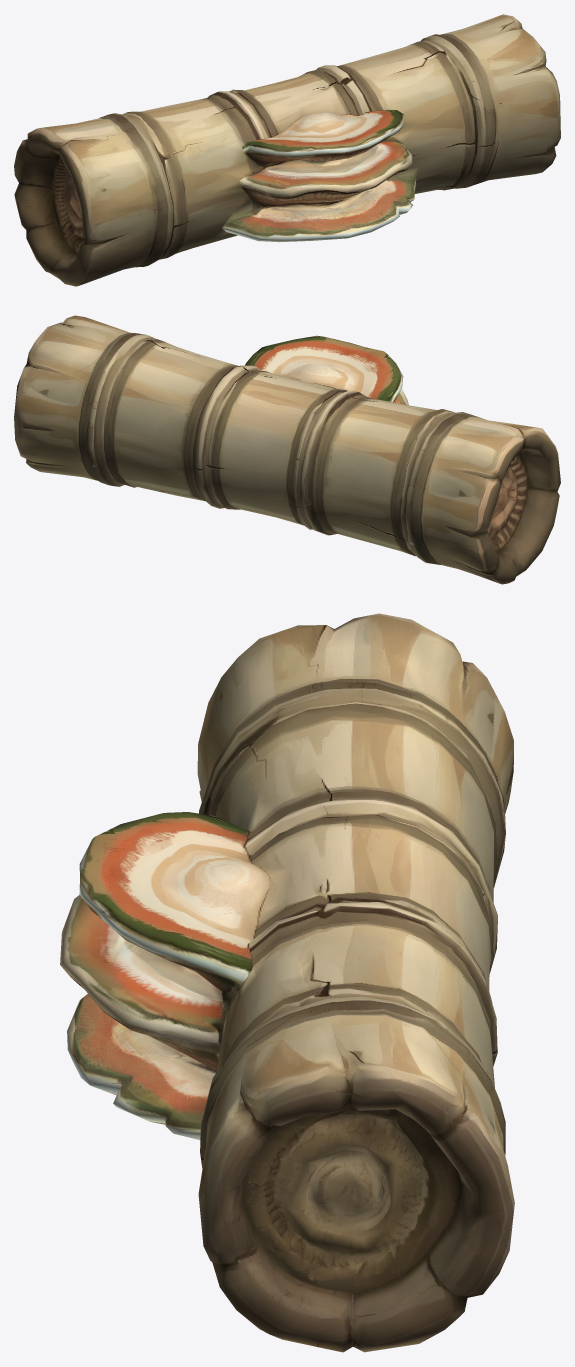
3 views of the same model, one above another, from view 1: azimuth 30°, elevation 25°; view 2: azimuth 150°, elevation 25°; view 3: azimuth 270°, elevation 25° (orthographic). The views are drawn at different scales.
Parts seen in each view (by area): view 1: Mesh_0; view 2: Mesh_0; view 3: Mesh_0.
Boxes of the visible parts, x1,y1,x2,y2 form: Mesh_0: (14,14,560,286); Mesh_0: (14,315,560,584); Mesh_0: (60,613,514,1352).
Bounding box in the file's own units: 1.91 × 0.5538 × 0.7918.
Materials: 1 (1 with a texture image).
